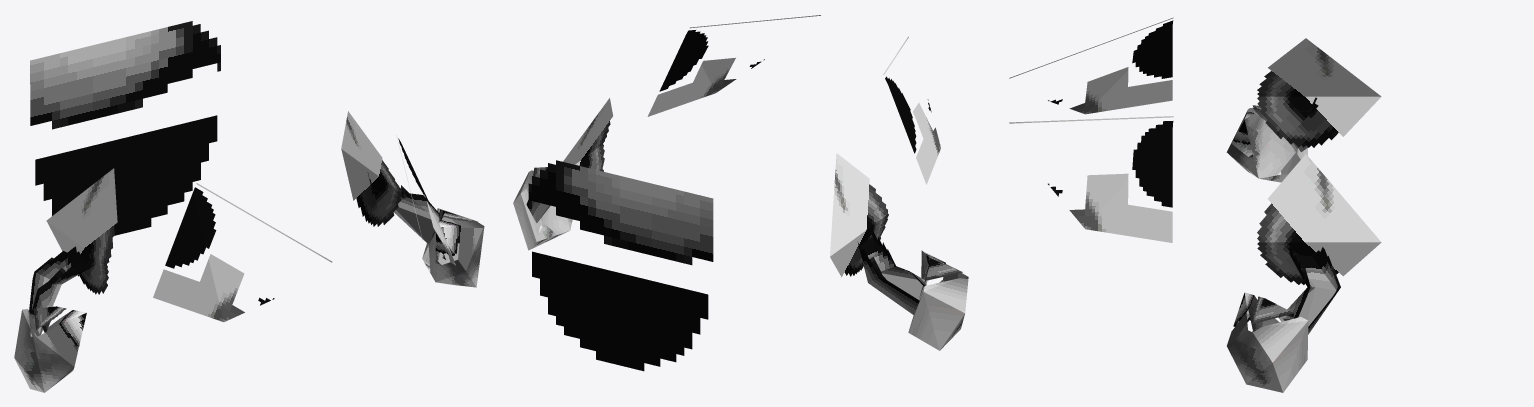
The model's file is killer_face.obj.
3 views of the same model, side by side, from view 1: azimuth 30°, elevation 25°; view 2: azimuth 150°, elevation 25°; view 3: azimuth 270°, elevation 25° (orthographic). The views are drawn at different scales.
Parts seen in each view (by area): view 1: killer_face; view 2: killer_face; view 3: killer_face.
Boxes of the visible parts, box(x1,y1,x2,y2) form: killer_face: box(14, 21, 484, 392); killer_face: box(513, 15, 968, 371); killer_face: box(1009, 17, 1381, 392).
Size of the model in its own units: 39.01 by 17.58 by 37.35.
Materials: 1 (1 with a texture image).
